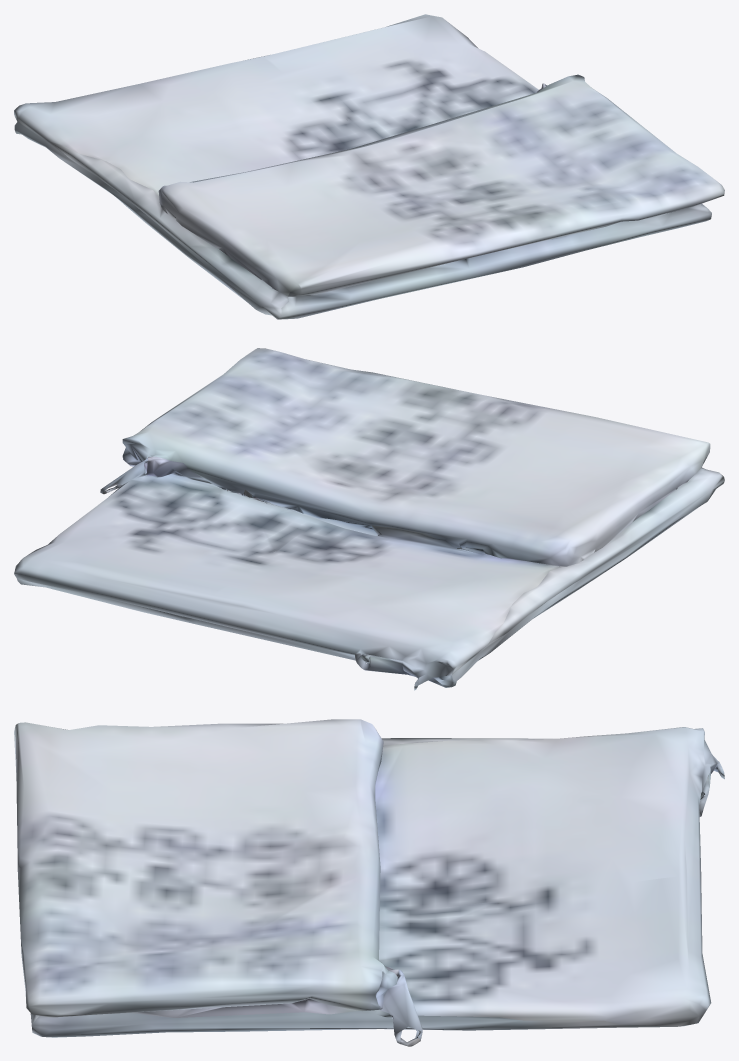
The model's file is Now_Designs_Snack_Bags_Bicycle_2_count-medium.glb.
The picture shows the model from 3 angles, top to bottom: view 1: azimuth 30°, elevation 25°; view 2: azimuth 150°, elevation 25°; view 3: azimuth 270°, elevation 25°; orthographic projection. The views are drawn at different scales.
Parts seen in each view (by area): view 1: Now_Designs_Snack_Bags_Bicycle_2_count; view 2: Now_Designs_Snack_Bags_Bicycle_2_count; view 3: Now_Designs_Snack_Bags_Bicycle_2_count.
Part boxes in pixels (box(x1,y1,x2,y2)): Now_Designs_Snack_Bags_Bicycle_2_count: box(14, 14, 724, 319); Now_Designs_Snack_Bags_Bicycle_2_count: box(14, 348, 724, 690); Now_Designs_Snack_Bags_Bicycle_2_count: box(14, 719, 724, 1046).
Size of the model in its own units: 0.1903 by 0.0215 by 0.2013.
1 material, 1 textured.
